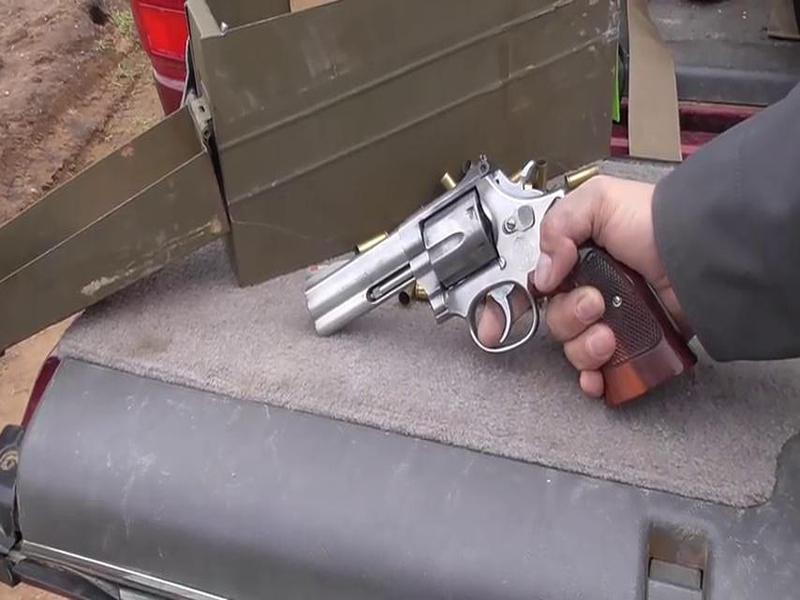Revolver: (276, 151, 707, 419)
